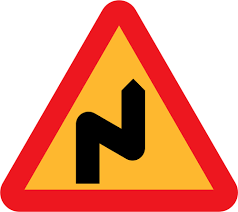Double_bend_right: (1, 1, 238, 211)
